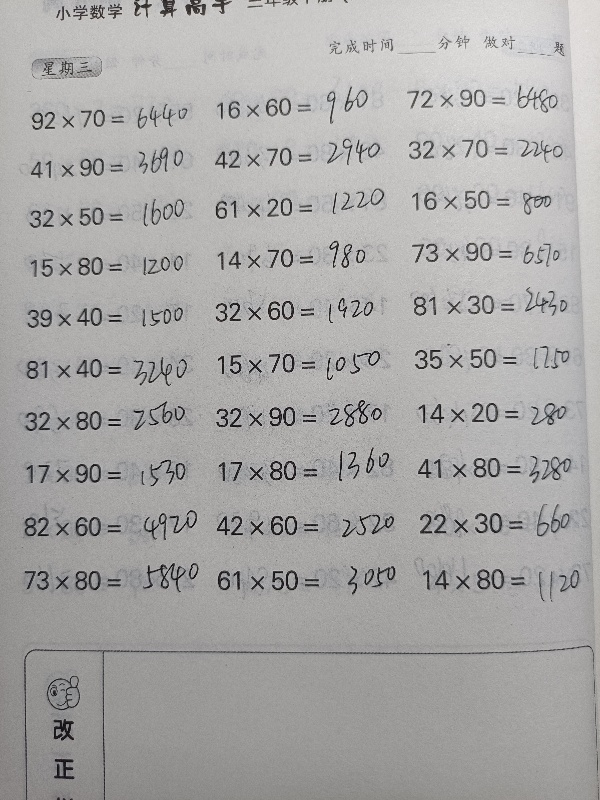equation: (410, 499, 590, 548), (414, 561, 594, 609), (208, 344, 388, 389), (405, 279, 585, 324), (409, 448, 589, 491), (398, 76, 578, 118), (406, 335, 586, 376), (206, 292, 386, 332), (403, 234, 583, 273), (207, 396, 387, 434), (22, 100, 202, 138), (209, 563, 389, 598), (17, 563, 197, 598), (16, 509, 196, 544), (208, 508, 388, 543), (18, 456, 198, 491), (210, 453, 390, 488), (16, 403, 196, 438), (409, 395, 589, 430), (17, 351, 197, 386), (18, 299, 198, 334), (21, 249, 201, 284), (208, 241, 388, 276), (206, 190, 386, 225), (399, 131, 579, 166), (21, 200, 201, 234), (402, 183, 582, 217), (21, 150, 201, 184), (206, 140, 386, 174), (208, 91, 388, 125)
